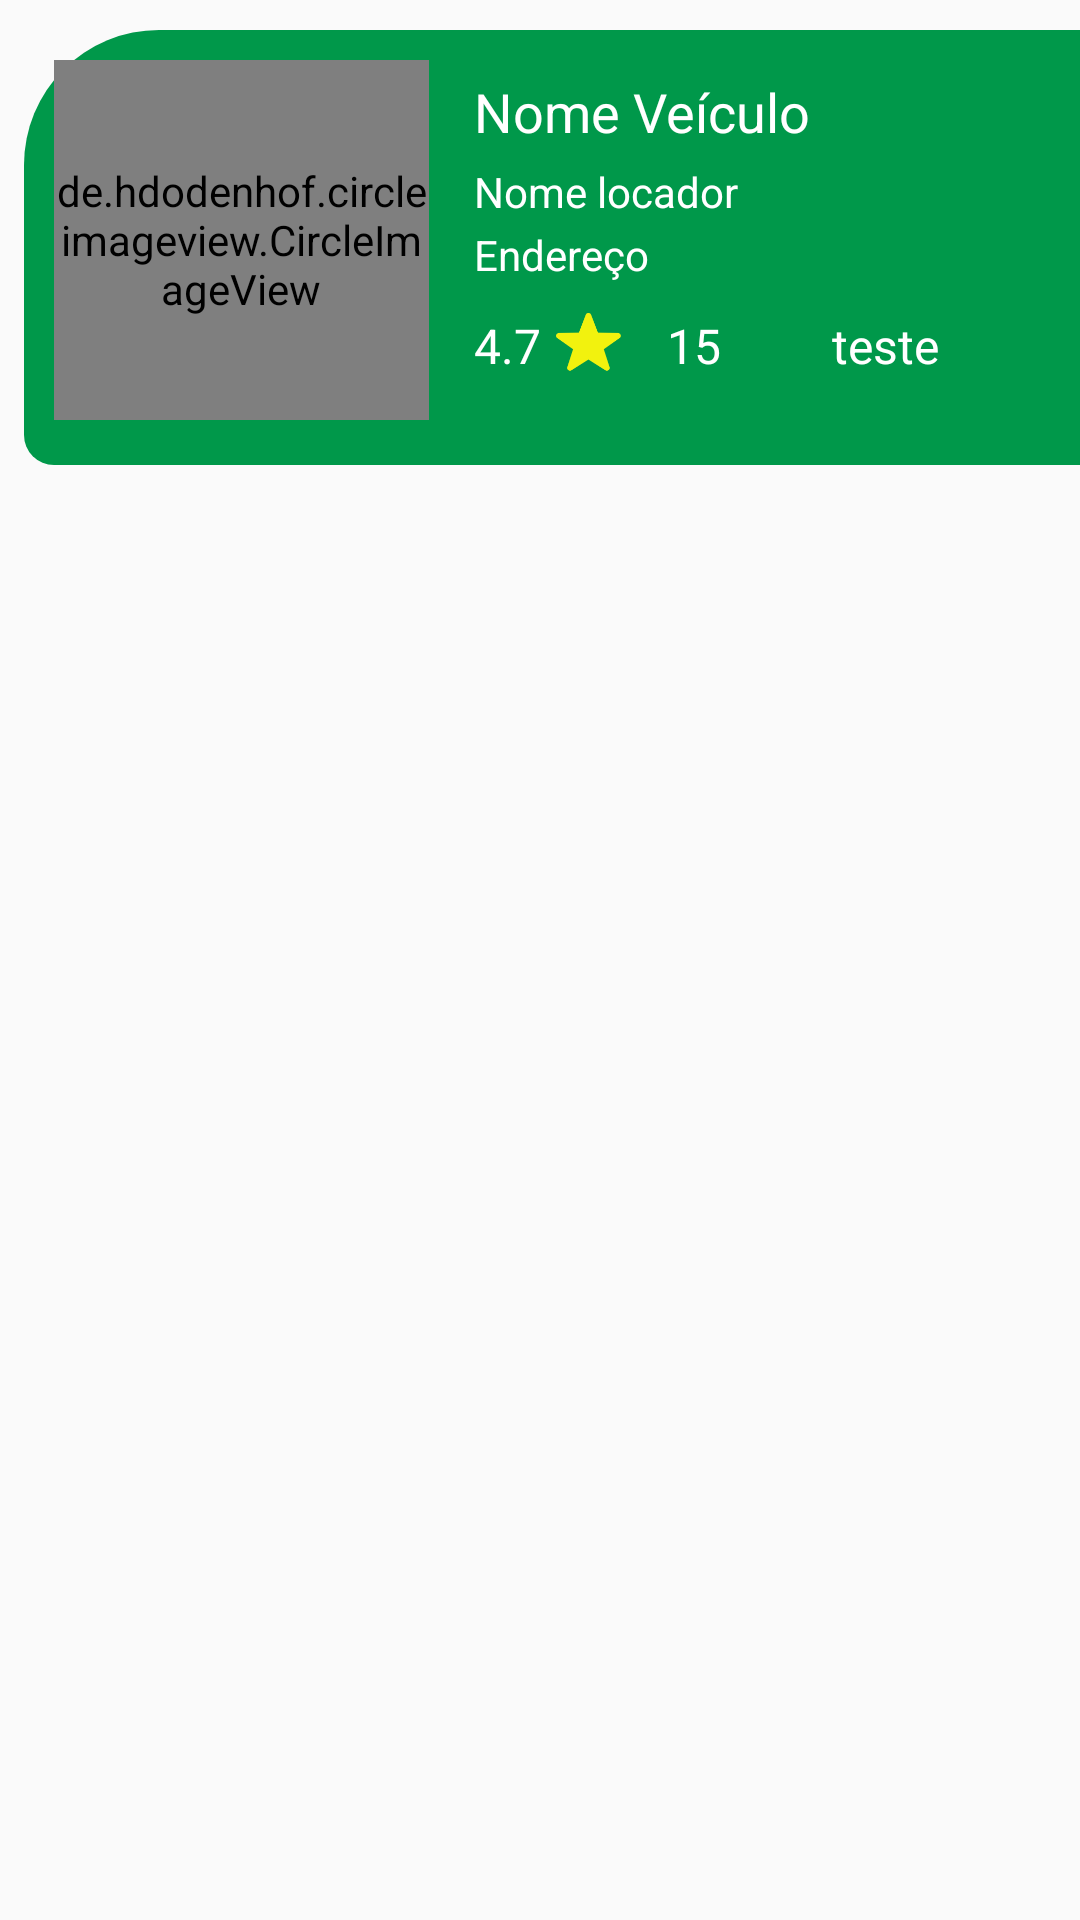

Screen size 1080 x 1920. Icon name, then its box in pixels as (x1, y1, x2, y2):
star: (556, 313, 621, 371)
